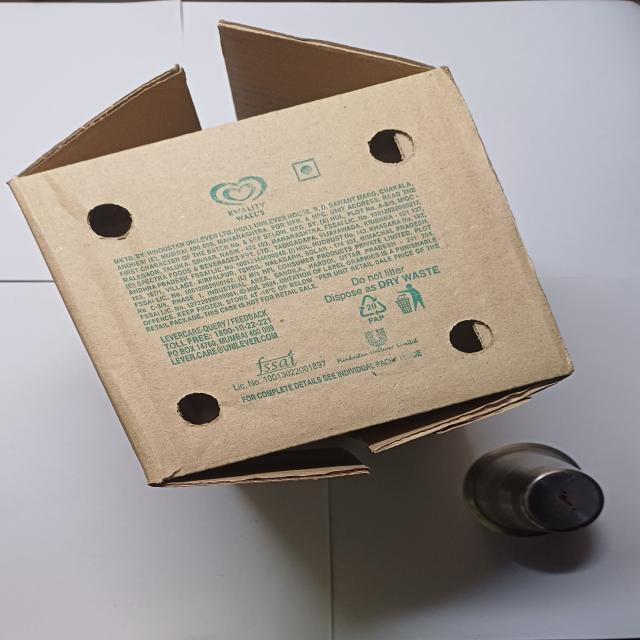CardBoard-Bio: (9, 18, 579, 492)
Steel-NonBio: (458, 438, 611, 550)
